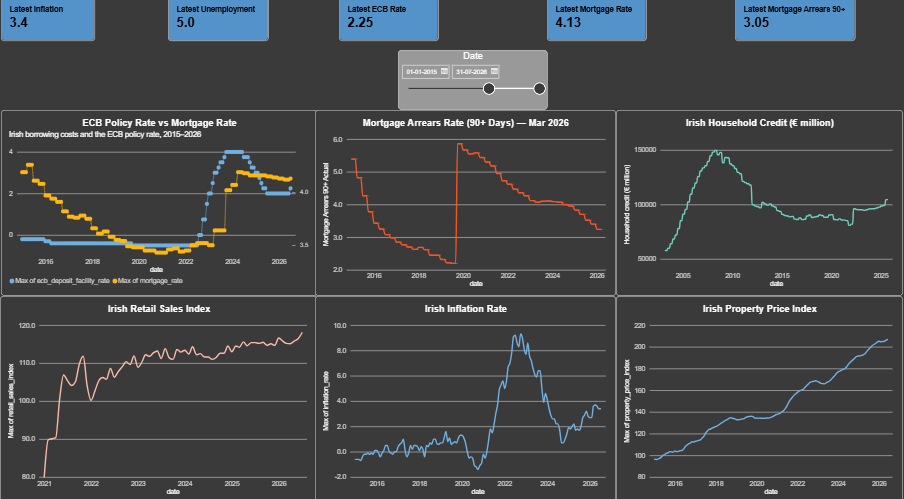

The dashboard page shown, as its layout file describes it:
{"tool":"powerbi","page":{"name":"Page 1","canvas":[1920,1080],"ordinal":0},"visuals":[{"type":"cardVisual","fields":{"Data":["monthly_financial_master_view.Latest Inflation"]},"box":[2.6,0,200,98.3],"z":0},{"type":"cardVisual","fields":{"Data":["monthly_financial_master_view.Latest Unemployment"]},"box":[357.2,0,213.8,98.3],"z":1000},{"type":"cardVisual","fields":{"Data":["monthly_financial_master_view.Latest ECB Rate"]},"box":[720,0,212.1,98.3],"z":2000},{"type":"cardVisual","fields":{"Data":["monthly_financial_master_view.Latest Mortgage Rate"]},"box":[1162.5,0,212.1,98.3],"z":3000},{"type":"cardVisual","fields":{"Data":["monthly_financial_master_view.Latest Mortgage Arrears 90+"]},"box":[1562.5,0,256,98],"z":4000},{"type":"lineChart","title":"ECB Policy Rate vs Mortgage Rate","fields":{"Category":["monthly_financial_master_view.date"],"Y":["Max(monthly_financial_master_view.ecb_deposit_facility_rate)"],"Y2":["Max(monthly_financial_master_view.mortgage_rate)"]},"box":[2.5,245,672.5,395],"z":5000},{"type":"slicer","title":"Date","fields":{"Values":["monthly_financial_master_view.date"]},"box":[845.1,117.6,317.6,127.5],"z":6000},{"type":"lineChart","title":"Mortgage Arrears Rate (90+ Days) — Mar 2026","fields":{"Category":["monthly_financial_master_view.date"],"Y":["monthly_financial_master_view.Mortgage Arrears 90+ Actual"]},"box":[670,245,640,395],"z":7000},{"type":"lineChart","title":"Irish Household Credit (€ million)","fields":{"Category":["monthly_financial_master_view.date"],"Y":["monthly_financial_master_view.Household Credit Actual"]},"box":[1310,245,610,395],"z":8000},{"type":"lineChart","title":"Irish Retail Sales Index","fields":{"Category":["monthly_financial_master_view.date"],"Y":["Max(monthly_financial_master_view.retail_sales_index)"]},"box":[0,640,675,440],"z":9000},{"type":"lineChart","title":"Irish Inflation Rate","fields":{"Category":["monthly_financial_master_view.date"],"Y":["Max(monthly_financial_master_view.inflation_rate)"]},"box":[670,640,640,440],"z":9001},{"type":"lineChart","title":"Irish Property Price Index","fields":{"Category":["monthly_financial_master_view.date"],"Y":["Max(monthly_financial_master_view.property_price_index)"]},"box":[1310,640,610,440],"z":9002},{"type":"clusteredColumnChart","fields":{"Y":["monthly_financial_master_view.Household Credit Actual"]},"box":[3,85,673,150],"z":9003}]}

Visuals, with their boxes in screenshot pixels (x1, y1, x2, y2), scaled from the page's 1920x1080 canvas onto the 904x499 screenshot:
cardVisual - monthly_financial_master_view.Latest Inflation: [1, 0, 95, 45]
cardVisual - monthly_financial_master_view.Latest Unemployment: [168, 0, 269, 45]
cardVisual - monthly_financial_master_view.Latest ECB Rate: [339, 0, 439, 45]
cardVisual - monthly_financial_master_view.Latest Mortgage Rate: [547, 0, 647, 45]
cardVisual - monthly_financial_master_view.Latest Mortgage Arrears 90+: [736, 0, 856, 45]
"ECB Policy Rate vs Mortgage Rate" lineChart: [1, 113, 318, 296]
"Date" slicer: [398, 54, 547, 113]
"Mortgage Arrears Rate (90+ Days) — Mar 2026" lineChart: [315, 113, 617, 296]
"Irish Household Credit (€ million)" lineChart: [617, 113, 903, 296]
"Irish Retail Sales Index" lineChart: [0, 296, 318, 498]
"Irish Inflation Rate" lineChart: [315, 296, 617, 498]
"Irish Property Price Index" lineChart: [617, 296, 903, 498]
clusteredColumnChart - monthly_financial_master_view.Household Credit Actual: [1, 39, 318, 109]
